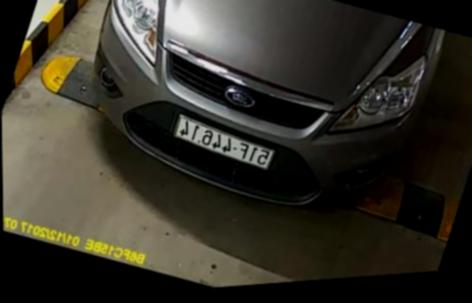License_Plate: (160, 106, 281, 187)
